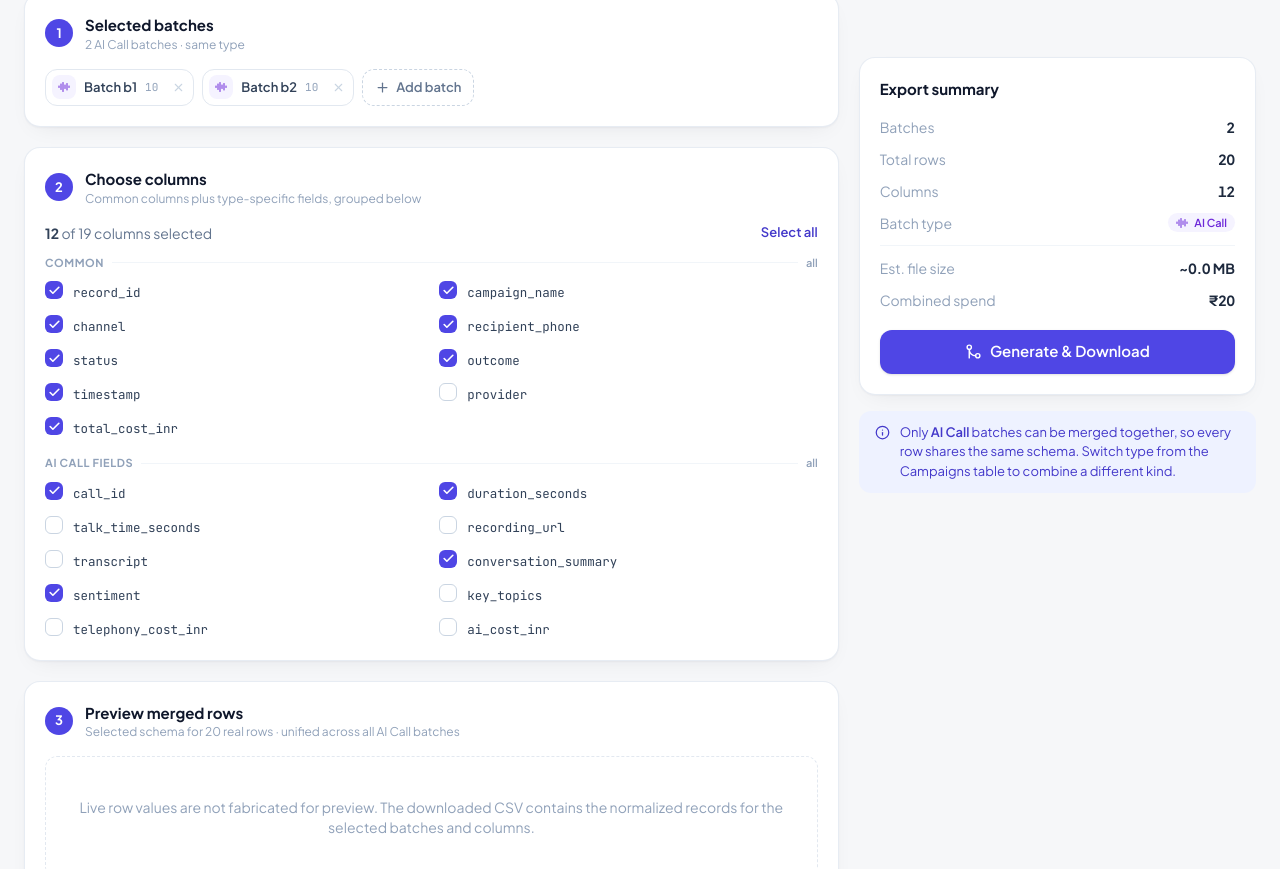
it: CombineScreen — completed download flow › makes an already-ingested selection immediately downloadable
This screenshot has width=1280, height=869.
Click the button "Generate & Download".
click(1057, 352)  # box [880,330,1235,374]
(page scrolled)
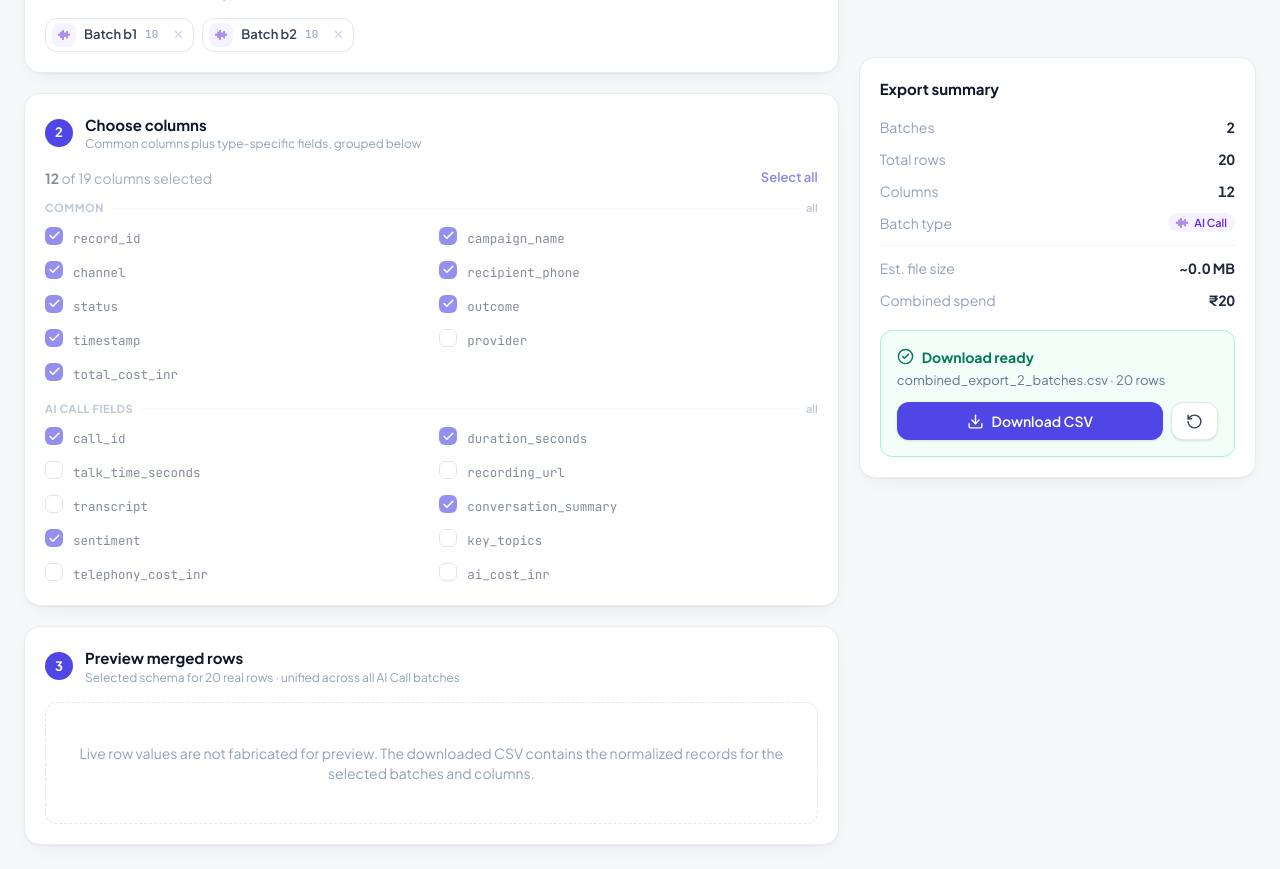
Expected: the text "Live row values are not fabricated for preview" is shown, [79,744,783,782]
Result: the button "Download CSV" is shown at [897,402,1163,440]
